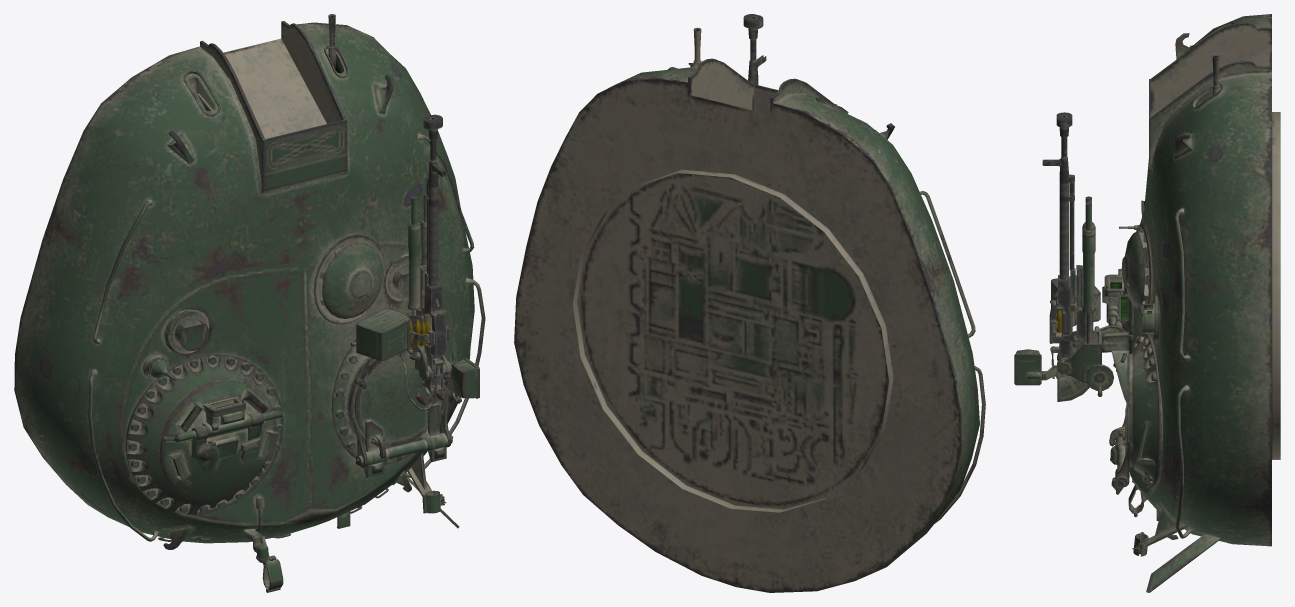
The model's file is Turret_01.glb.
3 views of the same model, side by side, from view 1: azimuth 30°, elevation 25°; view 2: azimuth 150°, elevation 25°; view 3: azimuth 270°, elevation 25° (orthographic). The views are drawn at different scales.
Visible parts, largest first — view 1: set_0_group_0; view 2: set_0_group_0; view 3: set_0_group_0.
Part boxes in pixels (bbox=[...]): set_0_group_0: bbox=[14, 14, 485, 592]; set_0_group_0: bbox=[514, 14, 985, 592]; set_0_group_0: bbox=[1014, 14, 1280, 592].
Size of the model in its own units: 2.63 by 2.97 by 1.42.
1 material, 1 textured.
